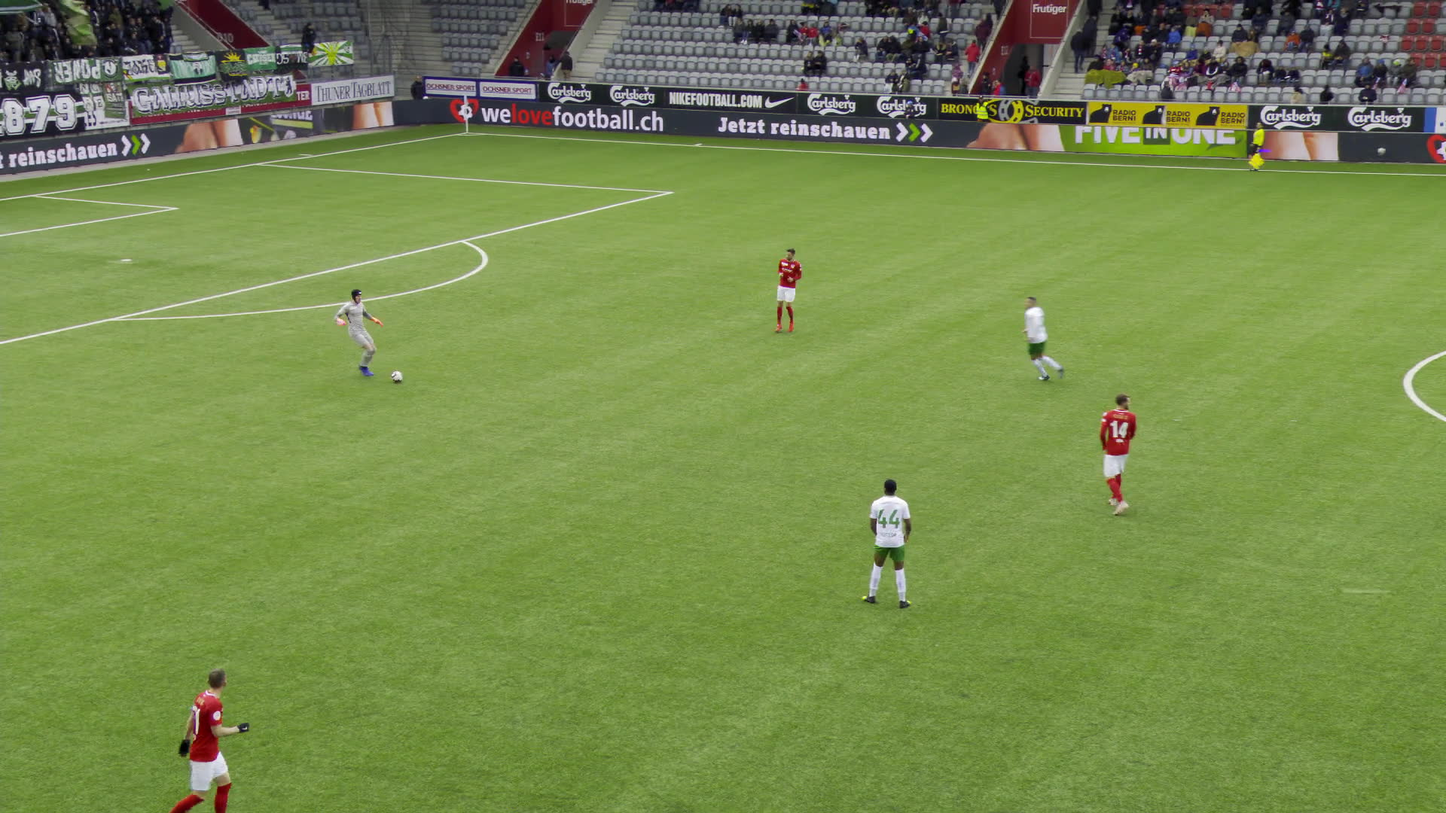ball: (392, 368, 406, 382)
player: (171, 660, 247, 812), (862, 477, 917, 607), (1098, 391, 1142, 514), (337, 289, 389, 377), (1020, 294, 1069, 382), (772, 249, 805, 333)
referee: (1246, 120, 1269, 172)
